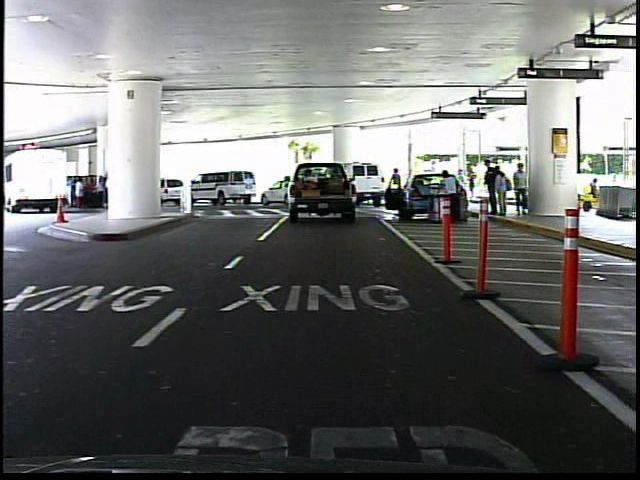person: (437, 163, 461, 223), (509, 159, 531, 216), (388, 165, 406, 209)
